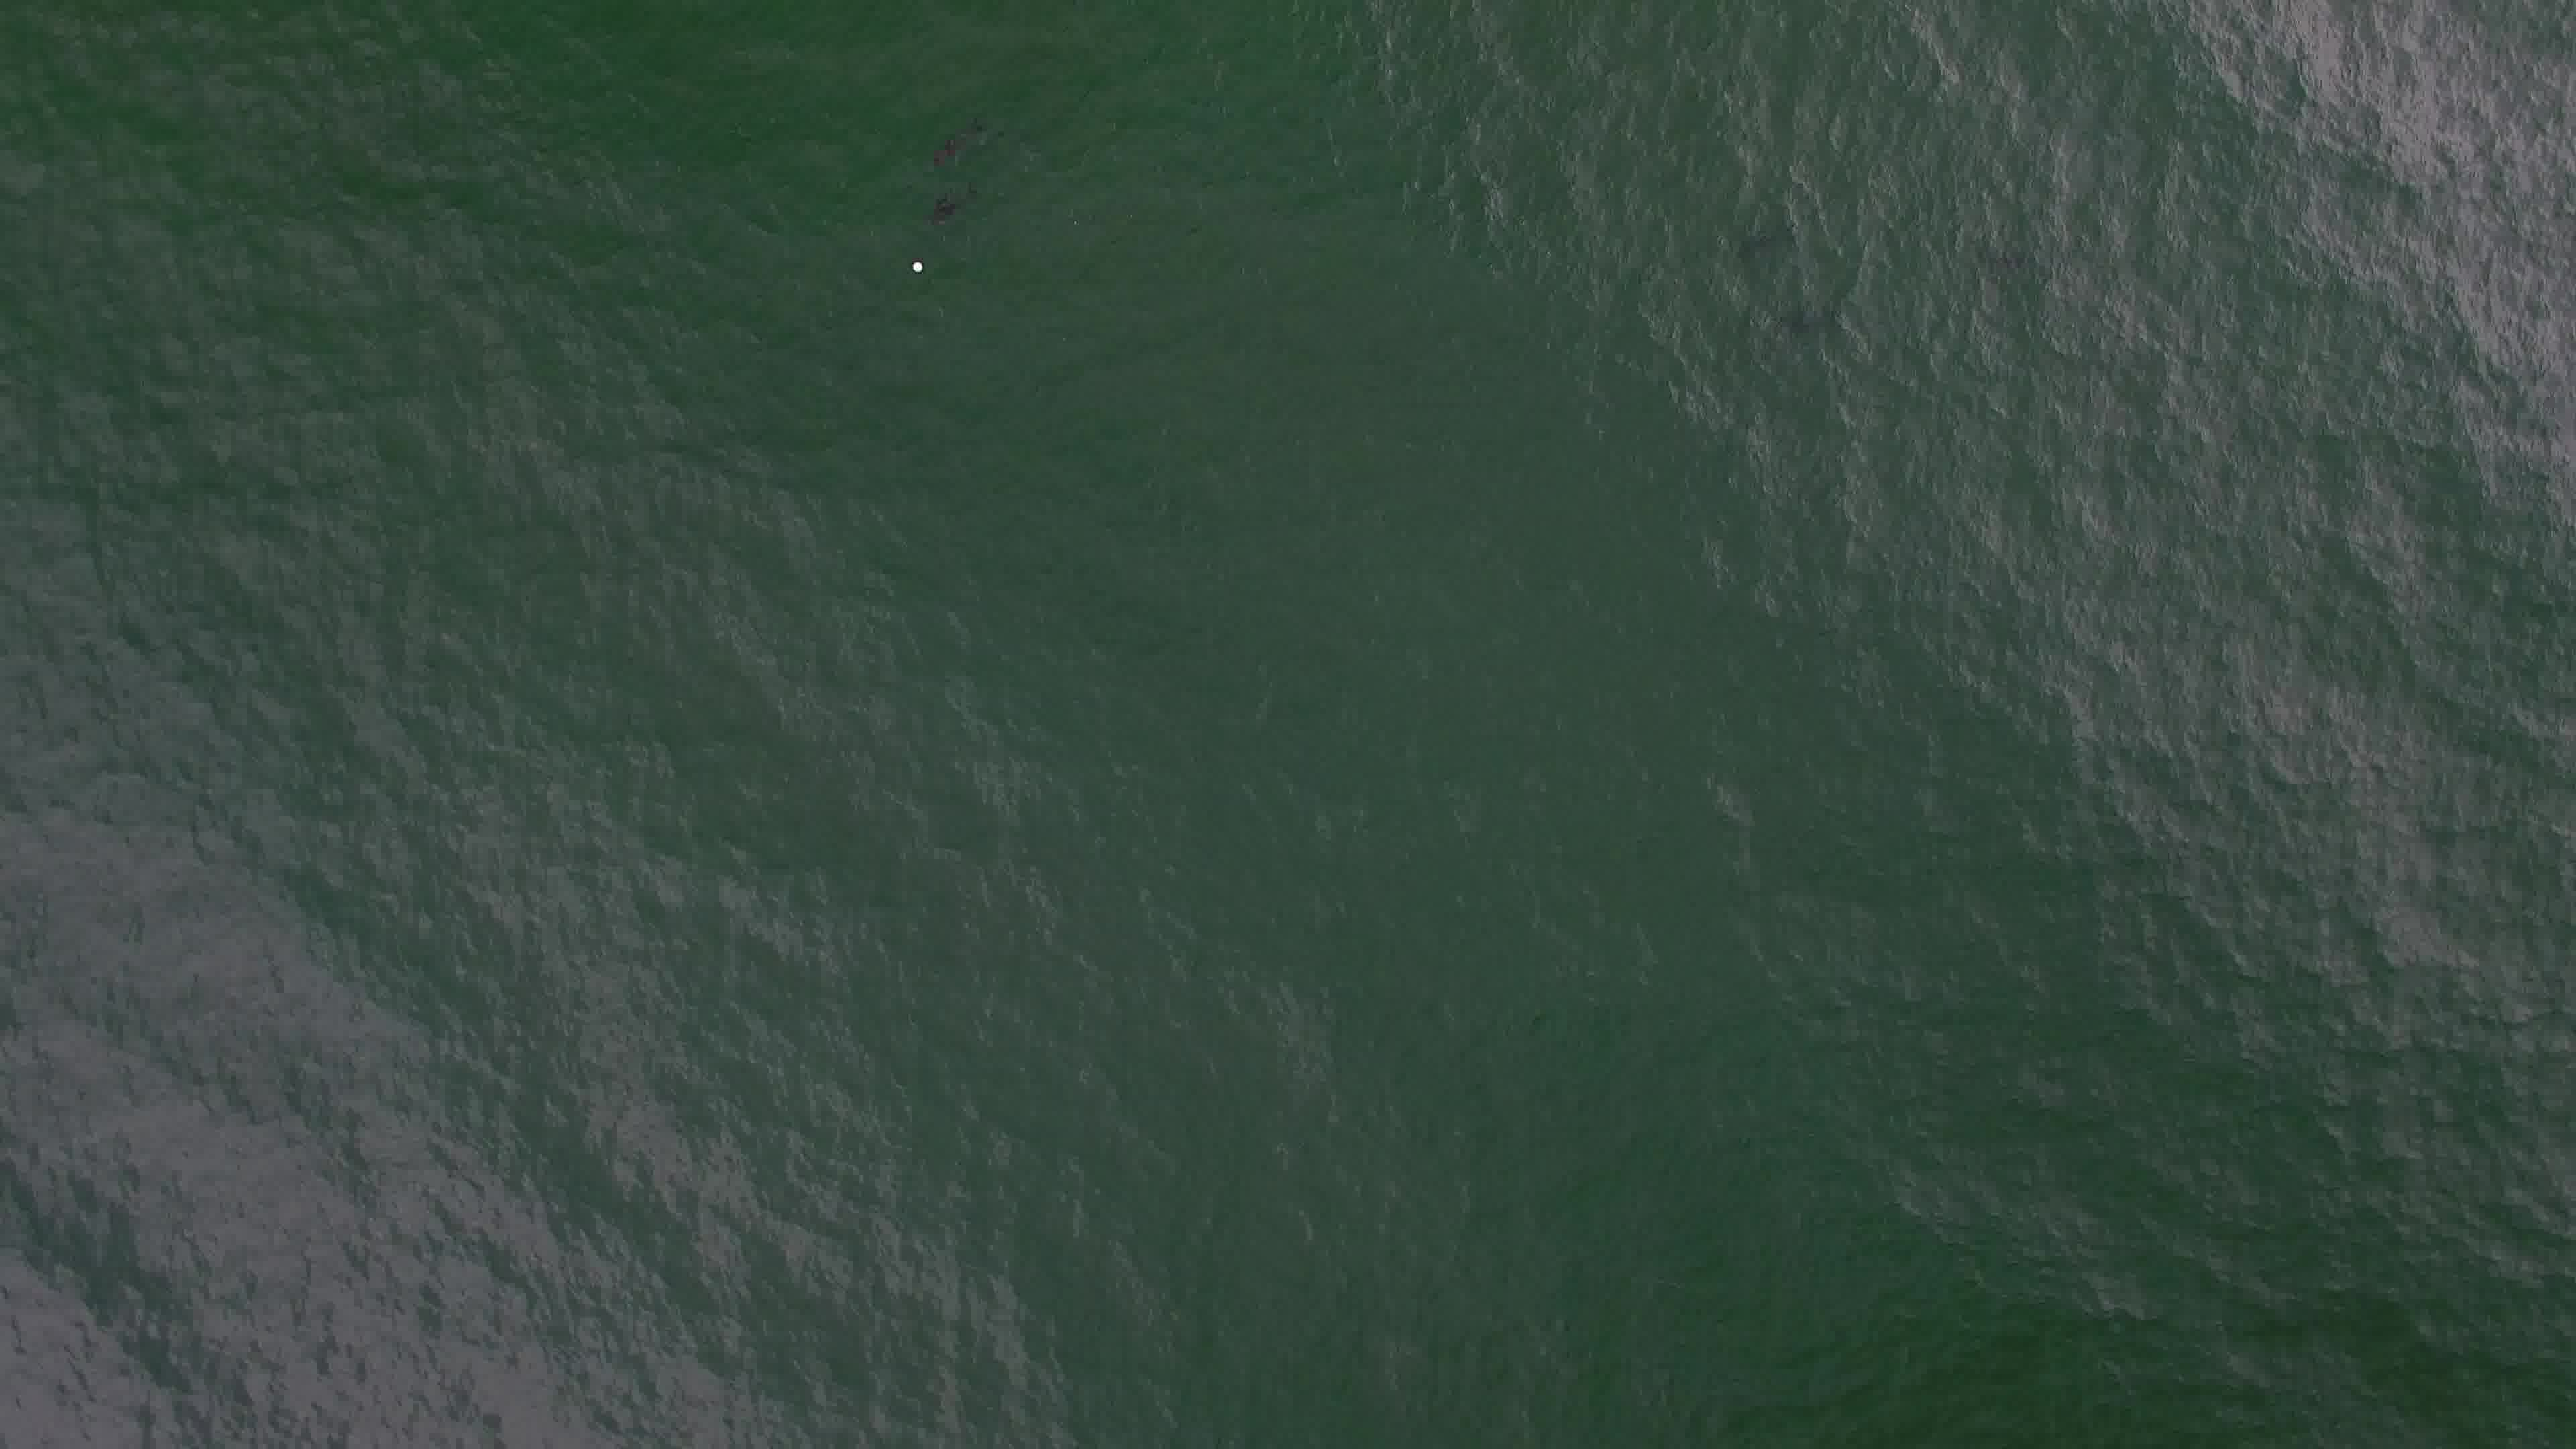dolphin: (1707, 191, 1822, 260), (916, 101, 993, 173), (911, 166, 1005, 223)
